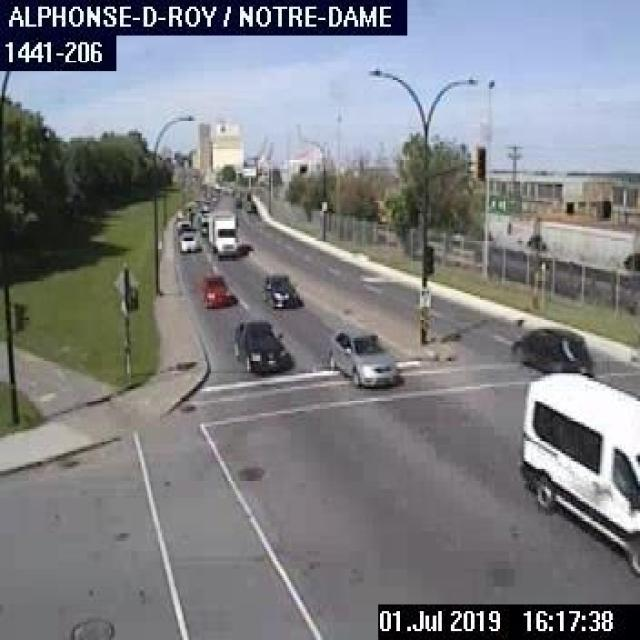vehicle: (518, 371, 638, 574), (508, 324, 595, 376), (327, 325, 399, 387), (231, 318, 293, 374), (205, 207, 239, 255), (260, 271, 300, 307), (198, 274, 231, 304), (177, 230, 197, 252), (175, 216, 191, 230), (197, 213, 207, 234), (242, 198, 255, 211)
